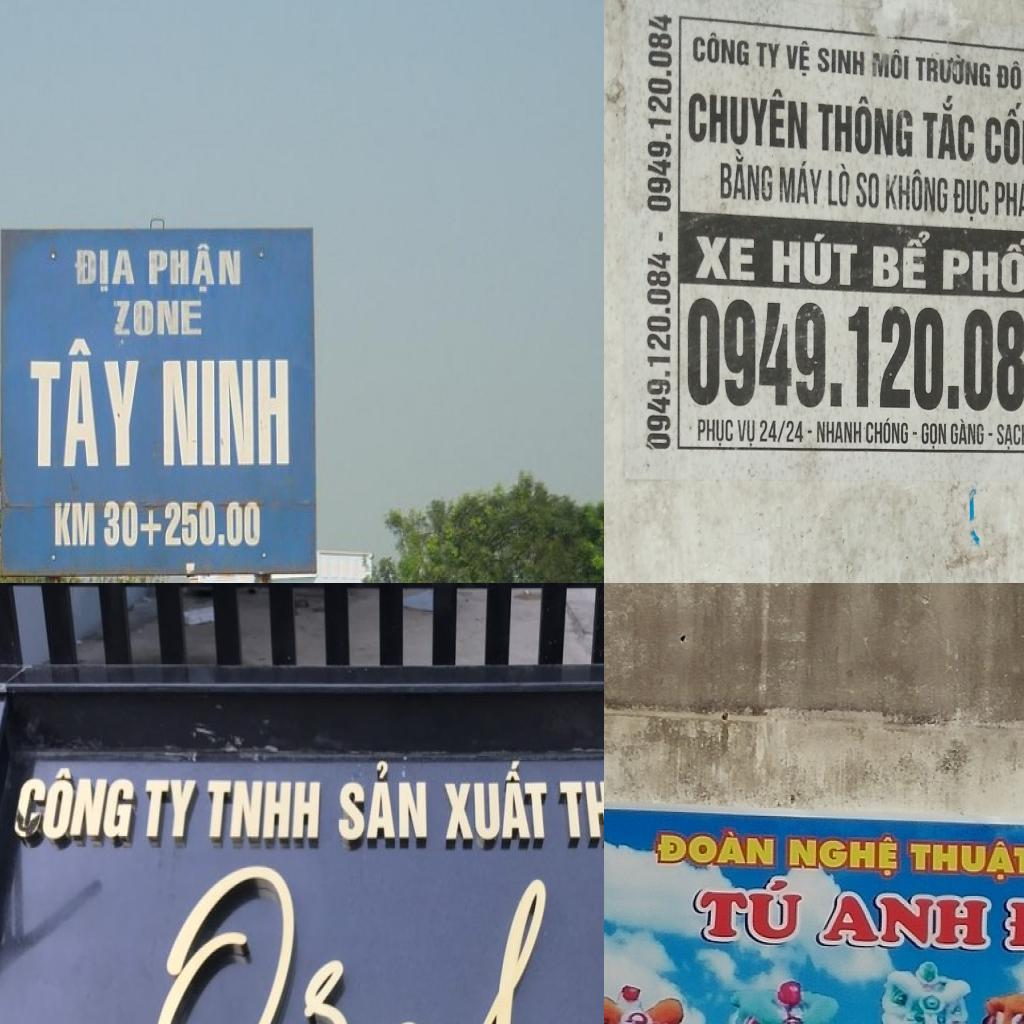text: (133, 857, 604, 1024), (681, 295, 1024, 412), (23, 339, 142, 472), (161, 361, 292, 467), (809, 885, 995, 954), (9, 760, 137, 845), (441, 760, 552, 853), (101, 498, 260, 552), (337, 760, 431, 851), (206, 775, 327, 845), (691, 874, 804, 948), (689, 83, 810, 152), (816, 92, 914, 159), (768, 227, 862, 292), (644, 12, 674, 212), (939, 229, 1024, 297), (643, 252, 672, 448), (652, 827, 779, 871), (145, 243, 244, 297), (908, 838, 1024, 884), (786, 833, 903, 878), (143, 772, 202, 847), (868, 227, 933, 293), (108, 298, 206, 341), (919, 91, 977, 162), (555, 769, 604, 849), (692, 232, 757, 287), (716, 146, 774, 201), (883, 168, 948, 216), (69, 247, 136, 293), (914, 48, 991, 88), (983, 97, 1024, 170), (775, 156, 822, 210), (688, 28, 750, 68), (53, 502, 96, 547), (950, 176, 990, 224), (814, 44, 866, 76), (861, 415, 909, 448), (813, 418, 862, 450), (992, 171, 1024, 219), (692, 416, 734, 452), (758, 416, 804, 448), (948, 416, 986, 453), (826, 160, 852, 212), (868, 48, 910, 80), (854, 167, 882, 213), (992, 420, 1024, 452), (784, 41, 811, 78), (918, 418, 949, 450), (994, 56, 1023, 90), (734, 416, 758, 452), (754, 41, 780, 70)
